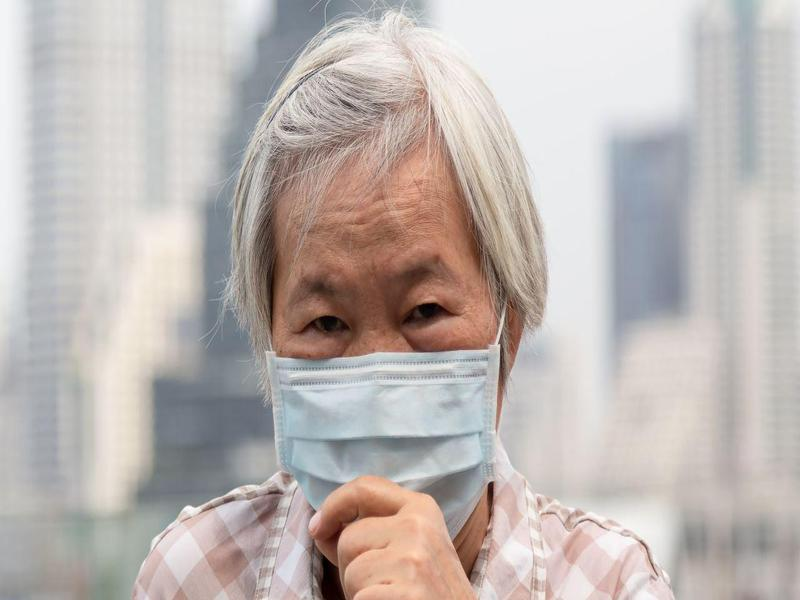with_mask: (260, 151, 505, 580)
